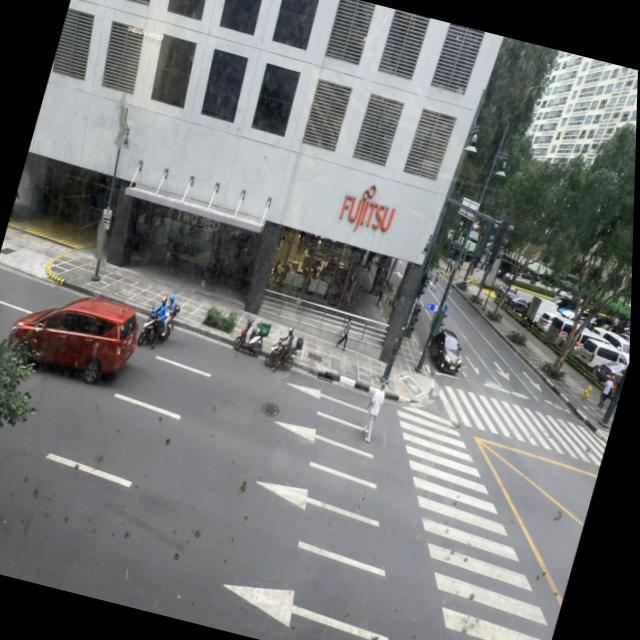jaywalking: (359, 380, 389, 443)
